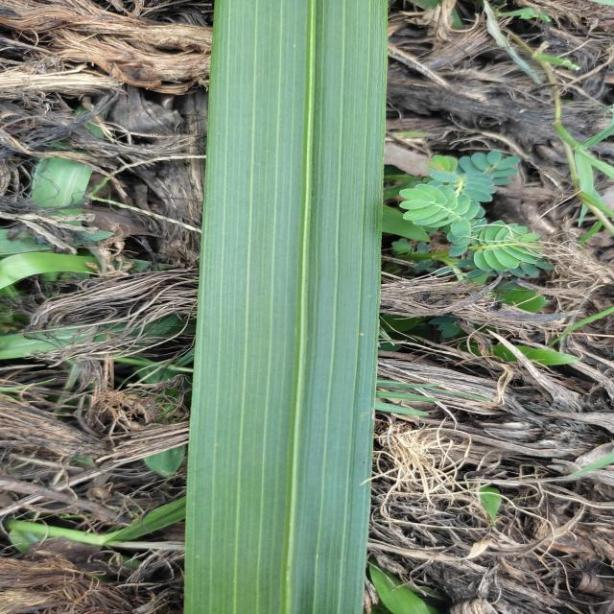Healthy: (186, 0, 388, 614)
